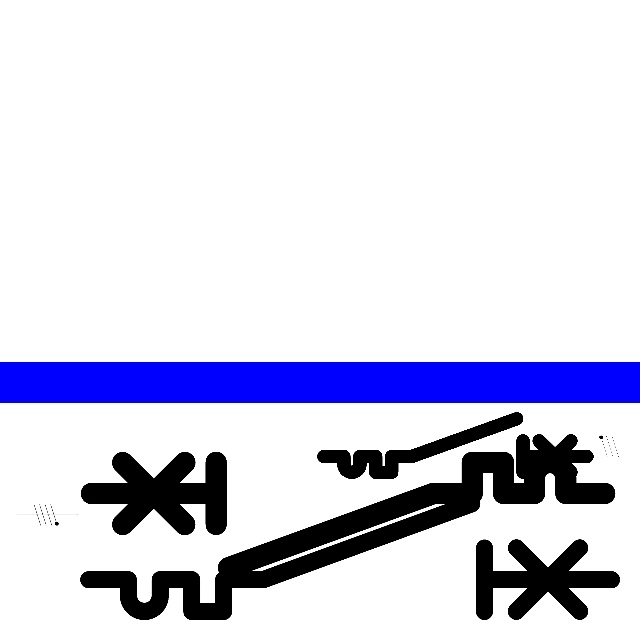interruptor_termomagnetico: (75, 490, 625, 625), (78, 449, 618, 581), (317, 412, 593, 479)
